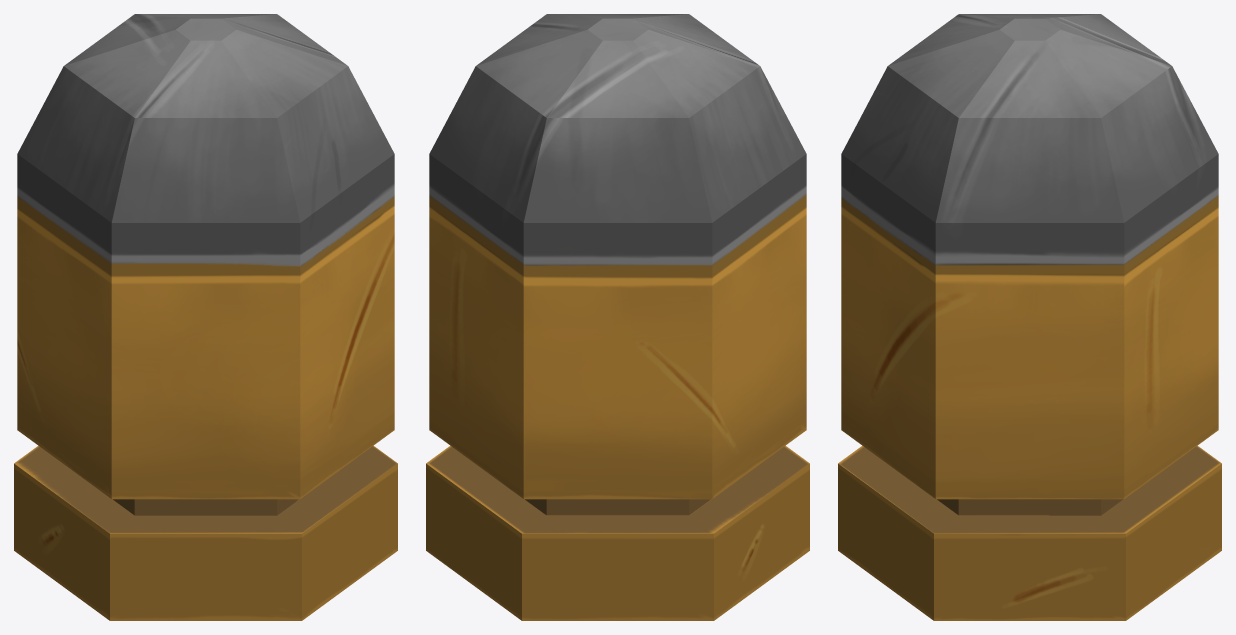
Rendered from Bullet.fbx.
The picture shows the model from 3 angles, left to right: view 1: azimuth 30°, elevation 25°; view 2: azimuth 150°, elevation 25°; view 3: azimuth 270°, elevation 25°; orthographic projection.
Parts seen in each view (by area): view 1: Circle; view 2: Circle; view 3: Circle.
Boxes of the visible parts, <box> form: Circle: <box>14,14,397,620</box>; Circle: <box>426,14,809,620</box>; Circle: <box>838,14,1221,620</box>.
Size of the model in its own units: 173 by 299 by 200.
